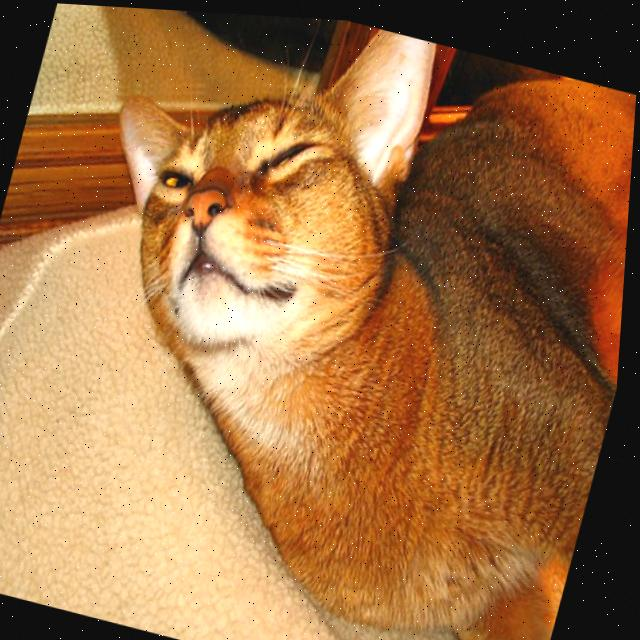Abyssinian: (0, 1, 640, 640)
